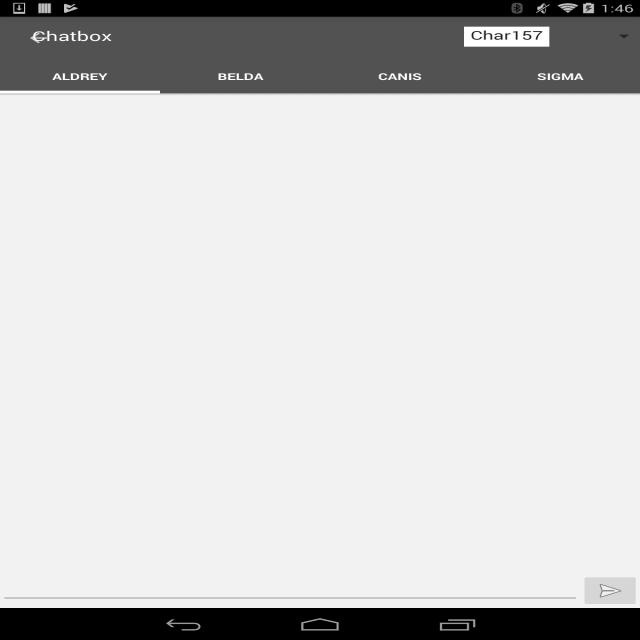EditText: (0, 573, 580, 603), (464, 26, 549, 46)
ImageButton: (9, 17, 68, 59), (580, 573, 640, 608)
Spinner: (549, 26, 635, 46)
TextView: (0, 60, 160, 94), (160, 60, 320, 94), (320, 60, 480, 94), (480, 60, 640, 94), (21, 20, 123, 51)
